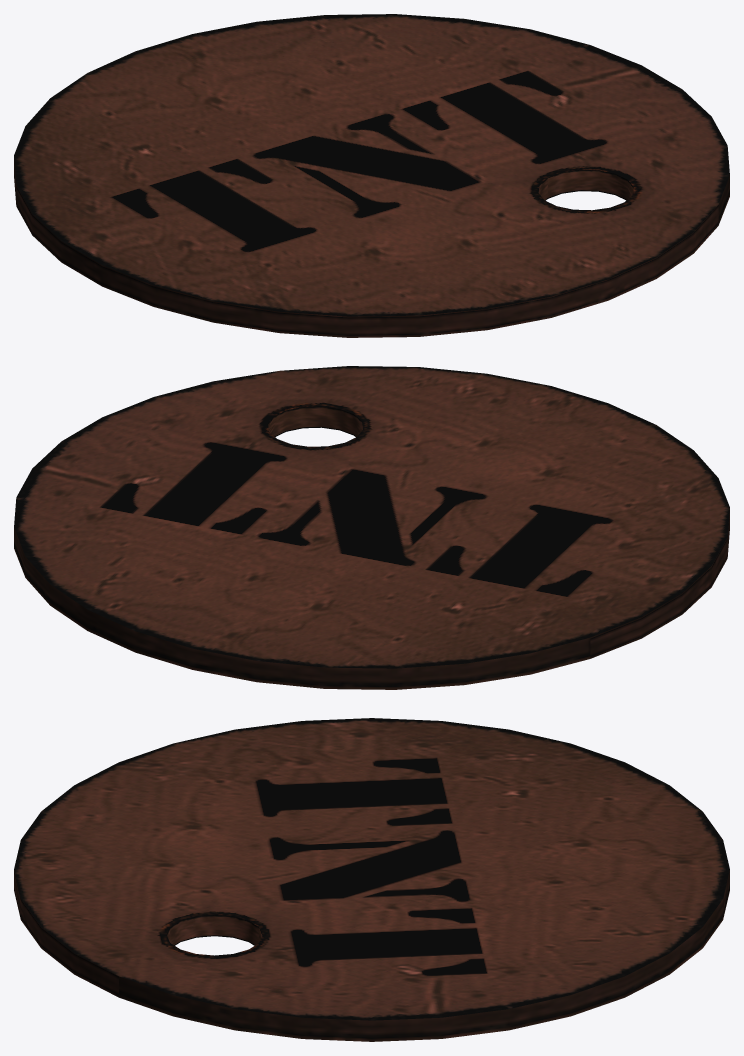
File: keg_top_gib.fbx
3 views of the same model, one above another, from view 1: azimuth 30°, elevation 25°; view 2: azimuth 150°, elevation 25°; view 3: azimuth 270°, elevation 25° (orthographic).
Visible parts, largest first — view 1: keg_top_gib; view 2: keg_top_gib; view 3: keg_top_gib.
Boxes of the visible parts, bbox=[...] form: keg_top_gib: bbox=[14, 14, 729, 337]; keg_top_gib: bbox=[14, 366, 729, 689]; keg_top_gib: bbox=[14, 718, 729, 1041].
Size of the model in its own units: 186 by 6.11 by 186.
